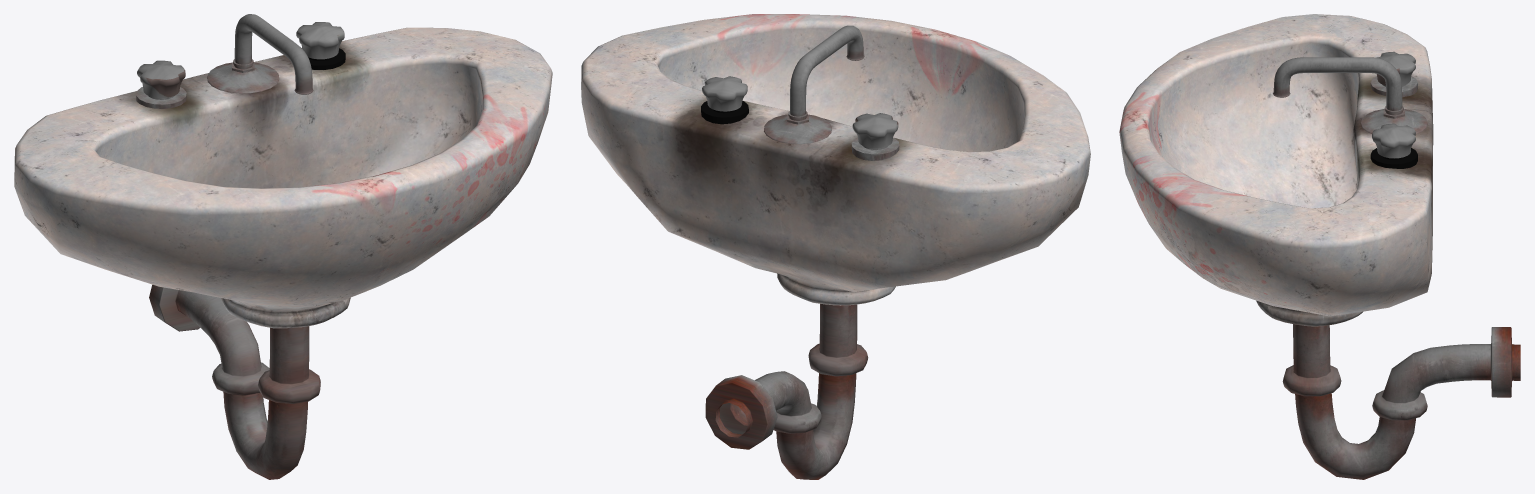
The model's file is Bathroom_Sink.fbx.
3 renders of one model, left to right at view 1: azimuth 30°, elevation 25°; view 2: azimuth 150°, elevation 25°; view 3: azimuth 270°, elevation 25°, orthographic. The views are drawn at different scales.
Visible parts, largest first — view 1: g Sink_GRP Sink_Body, g Pipe Sink_GRP, g Sink_GRP Main_Faucet Faucet, g Sink_GRP Main_Faucet pSphere17, g Sink_GRP pCylinder68 Left_Knob_Sink, g Sink_GRP pCylinder68 Right_Knob_Sink, g Sink_GRP Left_Knob_Sink pCylinder60; view 2: g Sink_GRP Sink_Body, g Pipe Sink_GRP, g Sink_GRP Main_Faucet Faucet, g Sink_GRP Main_Faucet pSphere17, g Sink_GRP pCylinder68 Left_Knob_Sink, g Sink_GRP pCylinder68 Right_Knob_Sink, g Sink_GRP Left_Knob_Sink pCylinder60, g Sink_GRP Right_Knob_Sink pCylinder60; view 3: g Sink_GRP Sink_Body, g Pipe Sink_GRP, g Sink_GRP Main_Faucet Faucet, g Sink_GRP pCylinder68 Right_Knob_Sink, g Sink_GRP Main_Faucet pSphere17, g Sink_GRP pCylinder68 Left_Knob_Sink, g Sink_GRP Right_Knob_Sink pCylinder60, g Sink_GRP Left_Knob_Sink pCylinder60.
Boxes of the visible parts, box(x1,y1,x2,y2) form: g Sink_GRP Sink_Body: box(14, 27, 552, 328); g Pipe Sink_GRP: box(149, 284, 320, 479); g Sink_GRP Main_Faucet Faucet: box(234, 14, 313, 94); g Sink_GRP Main_Faucet pSphere17: box(207, 62, 279, 93); g Sink_GRP pCylinder68 Left_Knob_Sink: box(137, 60, 185, 98); g Sink_GRP pCylinder68 Right_Knob_Sink: box(296, 22, 344, 59); g Sink_GRP Left_Knob_Sink pCylinder60: box(136, 87, 186, 108); g Sink_GRP Sink_Body: box(581, 14, 1090, 305); g Pipe Sink_GRP: box(705, 304, 868, 479); g Sink_GRP Main_Faucet Faucet: box(790, 25, 864, 116); g Sink_GRP Main_Faucet pSphere17: box(764, 114, 831, 144); g Sink_GRP pCylinder68 Left_Knob_Sink: box(852, 113, 898, 148); g Sink_GRP pCylinder68 Right_Knob_Sink: box(702, 76, 747, 111); g Sink_GRP Left_Knob_Sink pCylinder60: box(851, 137, 899, 160); g Sink_GRP Right_Knob_Sink pCylinder60: box(701, 101, 748, 124); g Sink_GRP Sink_Body: box(1119, 14, 1433, 326); g Pipe Sink_GRP: box(1282, 324, 1520, 479); g Sink_GRP Main_Faucet Faucet: box(1273, 57, 1402, 110); g Sink_GRP pCylinder68 Right_Knob_Sink: box(1372, 123, 1415, 158); g Sink_GRP Main_Faucet pSphere17: box(1360, 109, 1427, 134); g Sink_GRP pCylinder68 Left_Knob_Sink: box(1376, 51, 1415, 85); g Sink_GRP Right_Knob_Sink pCylinder60: box(1370, 147, 1417, 168); g Sink_GRP Left_Knob_Sink pCylinder60: box(1370, 76, 1417, 97).
Size of the model in its own units: 74.65 by 63.26 by 54.78.
3 materials, 2 textured.
